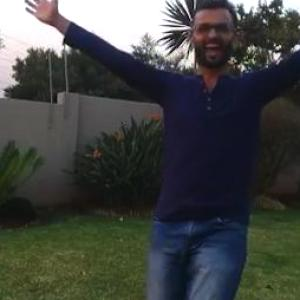takeoff: (38, 0, 299, 299)
